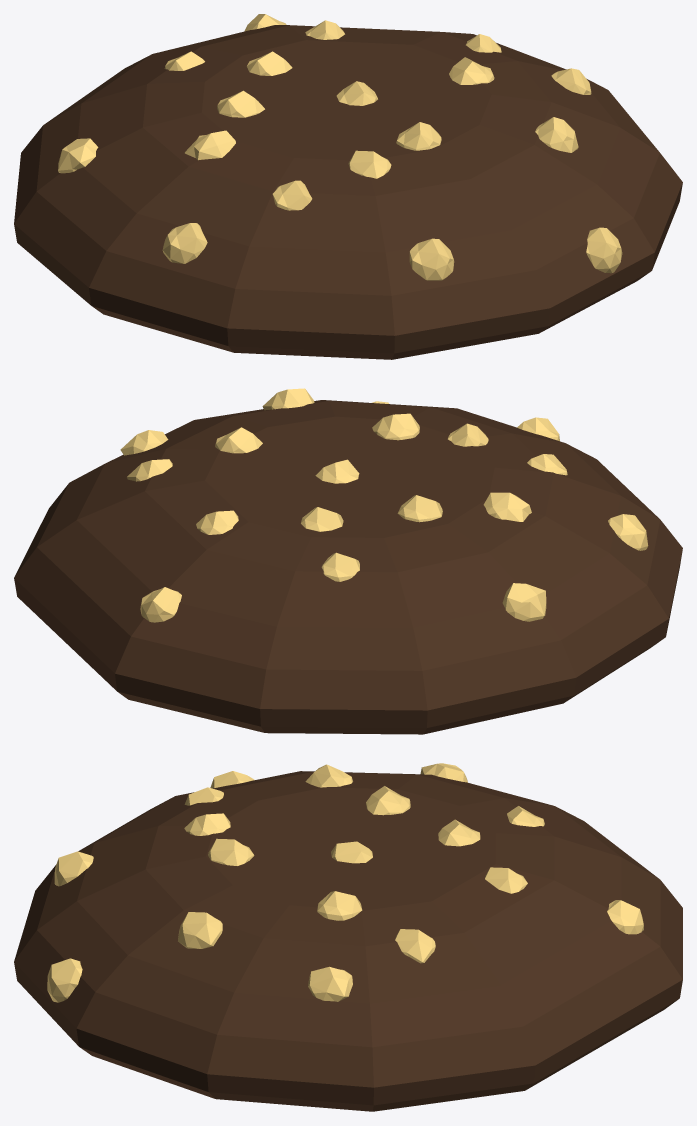
Rendered from bakedWhiteCookie.fbx.
The picture shows the model from 3 angles, top to bottom: view 1: azimuth 30°, elevation 25°; view 2: azimuth 150°, elevation 25°; view 3: azimuth 270°, elevation 25°; orthographic projection.
Parts seen in each view (by area): view 1: Icosphere; view 2: Icosphere; view 3: Icosphere.
Part boxes in pixels (left/top/right/bottom): Icosphere: left=14, top=14, right=682, bottom=359; Icosphere: left=14, top=388, right=682, bottom=734; Icosphere: left=14, top=763, right=682, bottom=1111.
Size of the model in its own units: 58.12 by 14.4 by 57.55.
